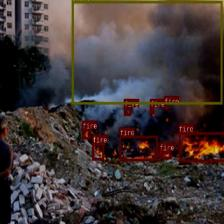fire: (178, 132, 224, 162), (119, 135, 157, 160), (92, 142, 104, 160), (82, 128, 90, 139), (160, 151, 170, 158), (124, 107, 130, 115), (150, 107, 154, 114), (164, 104, 167, 109)
smoke: (72, 1, 222, 104)
